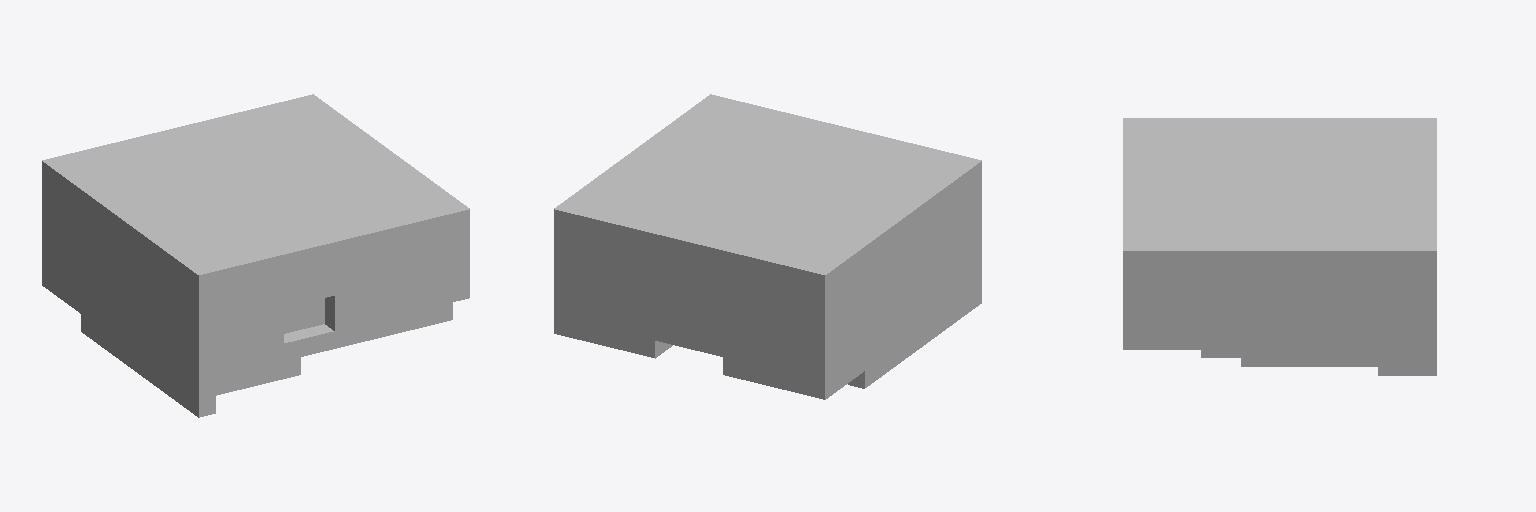
The model's file is Tile2.obj.
3 views of the same model, side by side, from view 1: azimuth 30°, elevation 25°; view 2: azimuth 150°, elevation 25°; view 3: azimuth 270°, elevation 25° (orthographic).
Visible parts, largest first — view 1: object 1; view 2: object 1; view 3: object 1.
Part boxes in pixels (left/top/right/bottom): object 1: left=42, top=94, right=469, bottom=417; object 1: left=554, top=94, right=981, bottom=399; object 1: left=1123, top=118, right=1436, bottom=375.
Bounding box in the file's own units: 1.6 × 0.8 × 1.6.